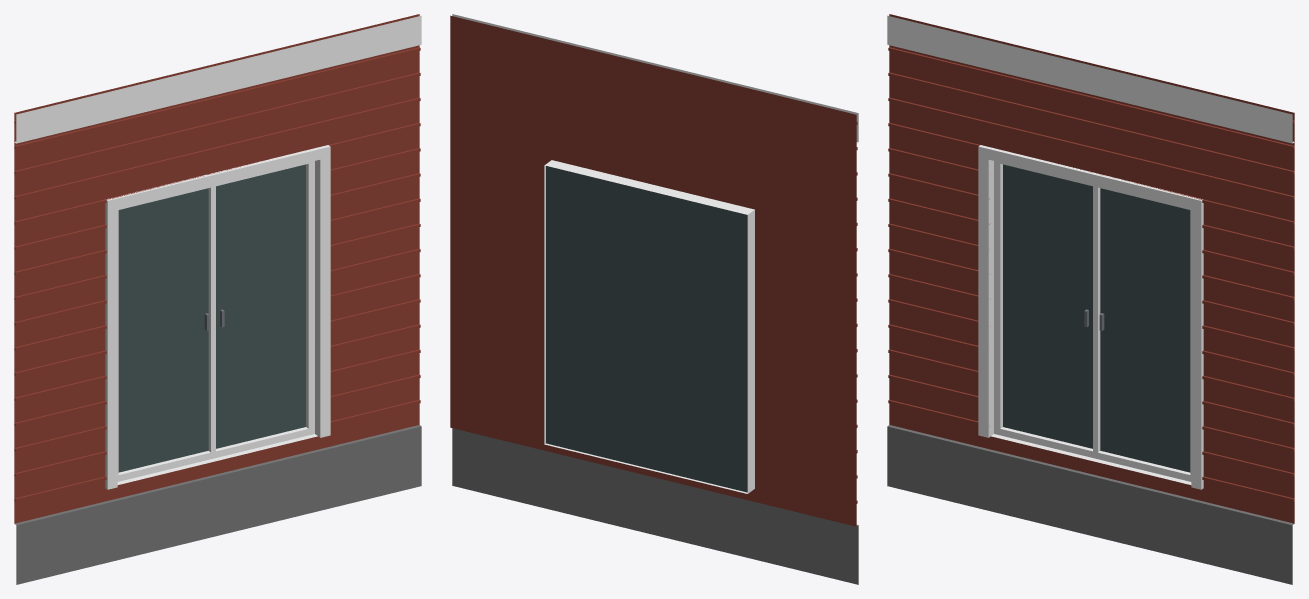
Rendered from base-w3_close.fbx.
The picture shows the model from 3 angles, left to right: view 1: azimuth 30°, elevation 25°; view 2: azimuth 150°, elevation 25°; view 3: azimuth 330°, elevation 25°; orthographic projection.
Parts seen in each view (by area): view 1: a2000/200/base-w3_close; view 2: a2000/200/base-w3_close; view 3: a2000/200/base-w3_close.
Part boxes in pixels (x1=…): a2000/200/base-w3_close: x1=14, y1=14, x2=421, y2=584; a2000/200/base-w3_close: x1=450, y1=14, x2=858, y2=584; a2000/200/base-w3_close: x1=887, y1=14, x2=1294, y2=584.
Size of the model in its own units: 3.2 by 3.55 by 0.13.
